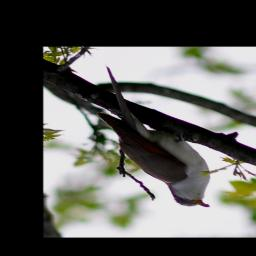Cuckoo: (95, 63, 212, 207)
